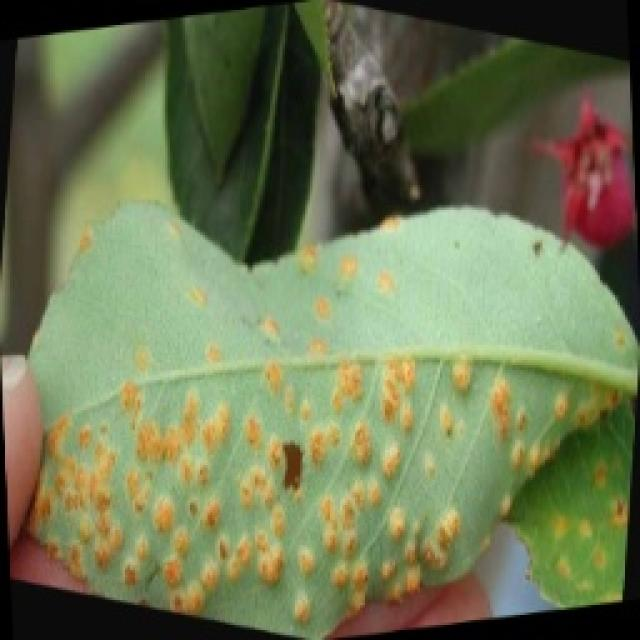Gymnosporangium_Rusts: (22, 226, 626, 610)
